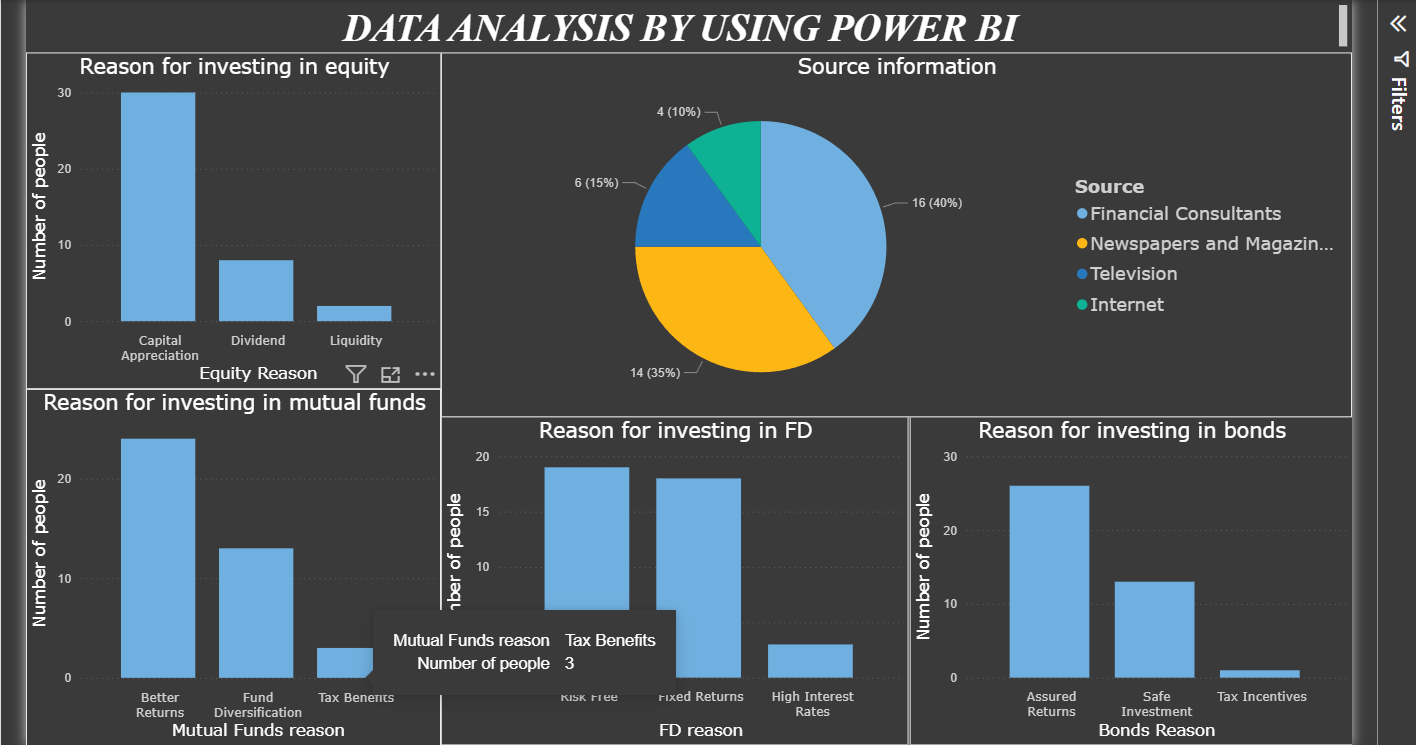

The page's visual inventory and layout, read from the dashboard file:
{"tool":"powerbi","page":{"name":"Page 1","canvas":[1280,720],"ordinal":1},"visuals":[{"type":"textbox","box":[0,0,1280,51.3],"z":0},{"type":"columnChart","title":"Reason for investing  in equity","fields":{"Y":["CountNonNull(Data_set 2.gender)"],"Category":["Data_set 2.Reason_Equity"]},"box":[0,50.6,400.9,324.9],"z":1000},{"type":"columnChart","title":"Reason for investing in FD","fields":{"Y":["CountNonNull(Data_set 2.gender)"],"Category":["Data_set 2.Reason_FD"]},"box":[400.9,402.3,451.5,317.9],"z":2000},{"type":"columnChart","title":"Reason for investing in bonds","fields":{"Y":["CountNonNull(Data_set 2.gender)"],"Category":["Data_set 2.Reason_Bonds"]},"box":[852.4,402.3,427.6,317.9],"z":3000},{"type":"clusteredColumnChart","title":"Reason for investing in mutual funds","fields":{"Y":["CountNonNull(Data_set 2.gender)"],"Category":["Data_set 2.Reason_Mutual"]},"box":[0,375.6,400.9,344.6],"z":4000},{"type":"pieChart","title":"Source information","fields":{"Y":["CountNonNull(Data_set 2.gender)"],"Category":["Data_set 2.Source"]},"box":[400.9,50.6,879.1,351.6],"z":5000}]}

Visuals, with their boxes on the page's 1280x720 design canvas (x1, y1, x2, y2). These are canvas units, not pixel positions in the 1416x745 screenshot, which may show the page scaled, cropped or inside an application window:
textbox: <region>0, 0, 1280, 51</region>
"Reason for investing  in equity" columnChart: <region>0, 51, 401, 376</region>
"Reason for investing in FD" columnChart: <region>401, 402, 852, 720</region>
"Reason for investing in bonds" columnChart: <region>852, 402, 1280, 720</region>
"Reason for investing in mutual funds" clusteredColumnChart: <region>0, 376, 401, 720</region>
"Source information" pieChart: <region>401, 51, 1280, 402</region>
